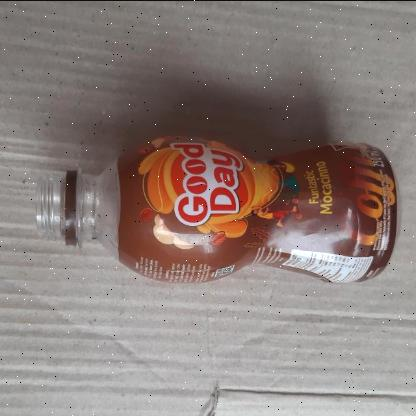Plastic Bottle: (32, 132, 400, 286)
